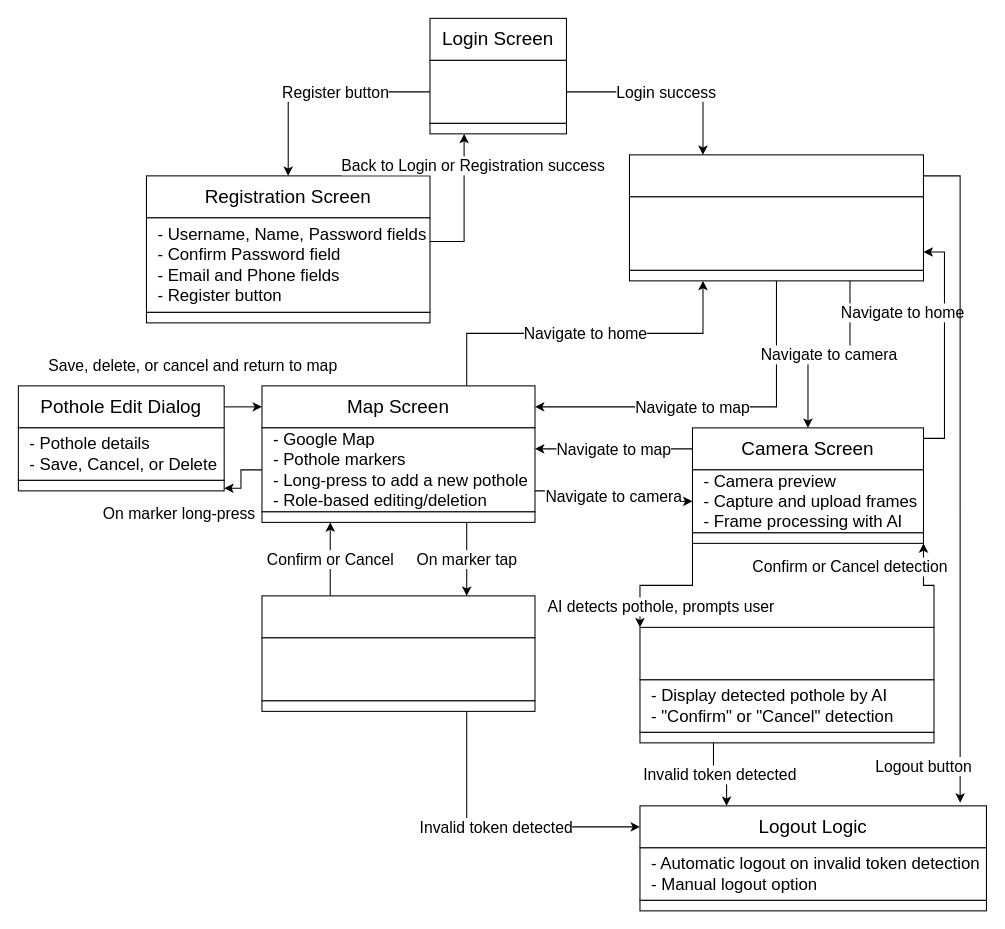
Image size: 1005x929. Some labels were removed from this diagram. The centre of each missing label's shape, as x and y in pixels:
- "Welcome" text - "Pothole Detector" title - Navigation buttons to Map/Camera: point (775, 233)
- Pothole detection confirmation - "Yes" / "No" buttons - Cancel button: point (398, 669)
- Username field - Password field - Login button: point (497, 91)
Camera Detection Confirmation Dialog: point (786, 653)
Home Screen: point (775, 175)
Map Confirmation Dialog: point (398, 616)
